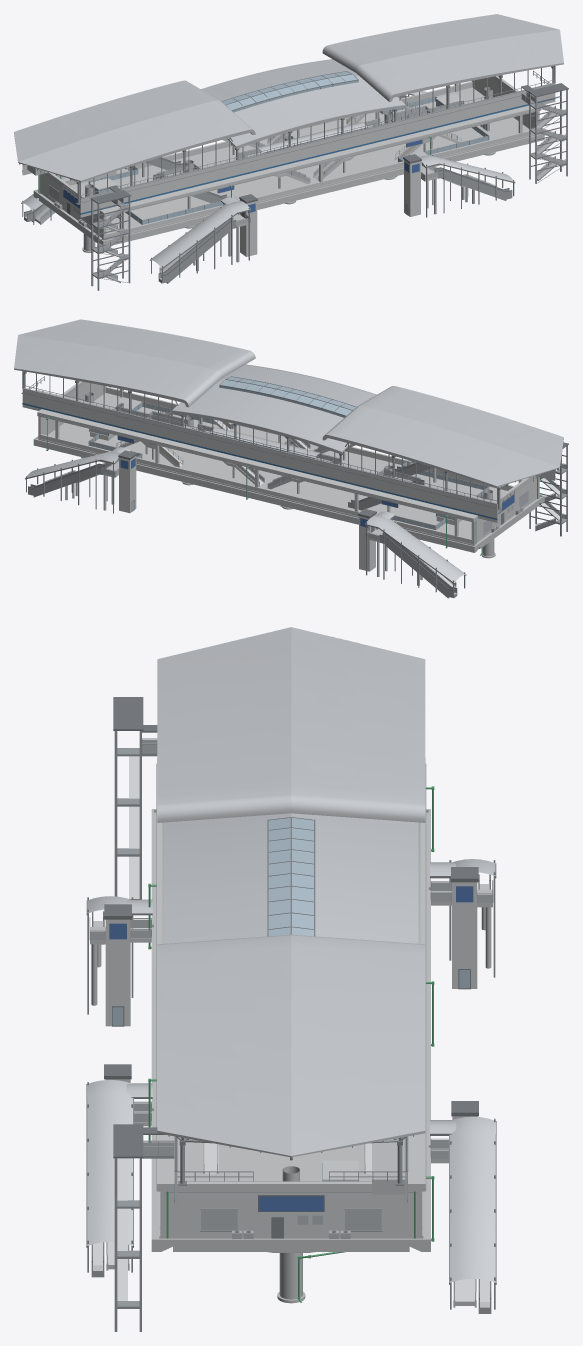
3 views of the same model, one above another, from view 1: azimuth 30°, elevation 25°; view 2: azimuth 150°, elevation 25°; view 3: azimuth 270°, elevation 25° (orthographic). The views are drawn at different scales.
Visible parts, largest first — view 1: BL35, BL35_conc, BL35_access; view 2: BL35, BL35_conc, BL35_access; view 3: BL35, BL35_access, BL35_conc.
Part boxes in pixels (x1,y1,x2,y2): BL35: (14,14,563,217); BL35_conc: (33,76,544,252); BL35_access: (21,83,568,290); BL35: (14,319,563,522); BL35_conc: (33,381,544,558); BL35_access: (25,387,568,598); BL35: (157,627,425,1208); BL35_access: (86,697,496,1331); BL35_conc: (151,758,430,1303).
Size of the model in its own units: 129 by 28 by 42.29.
